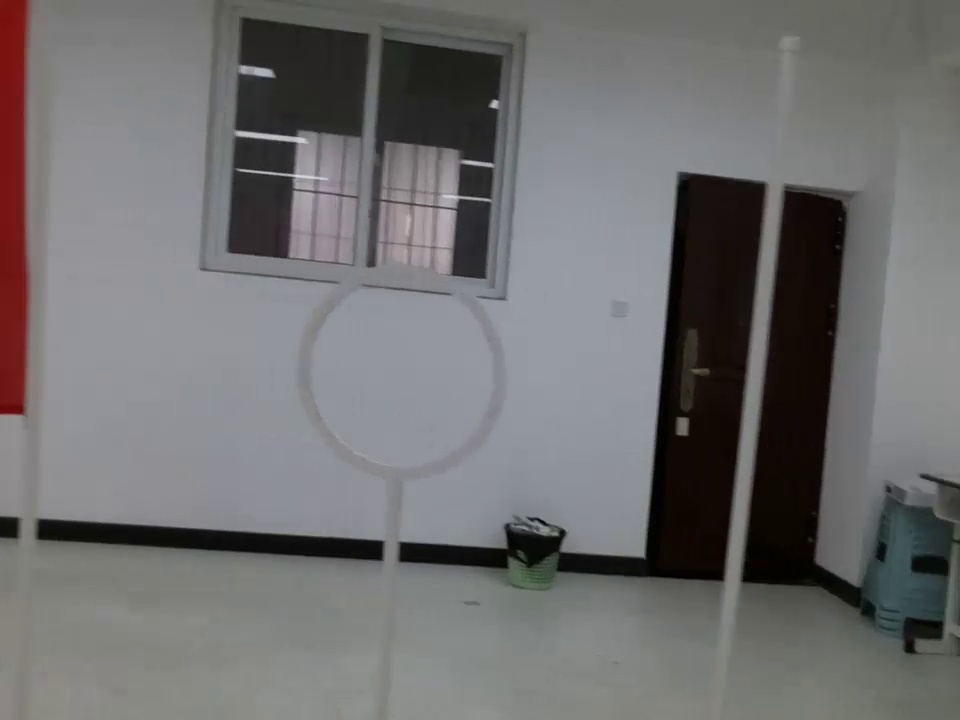qi: (1, 1, 44, 445)
quan: (291, 266, 509, 507)
